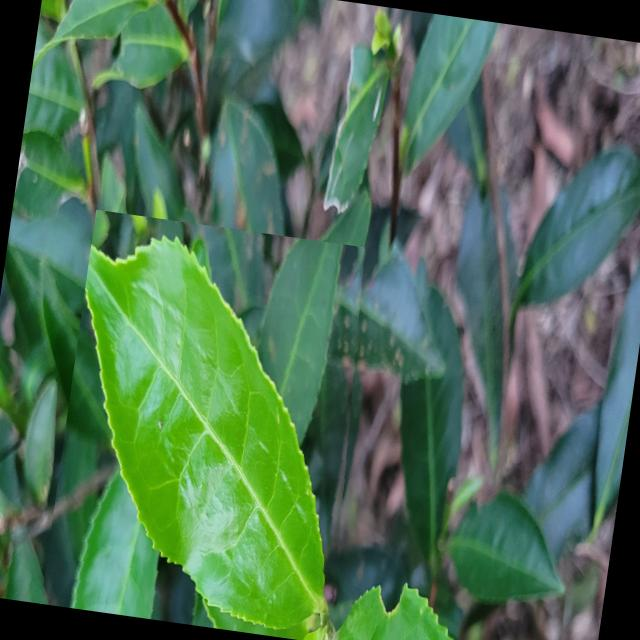Catagory A(1-2 days): (41, 208, 386, 640)
